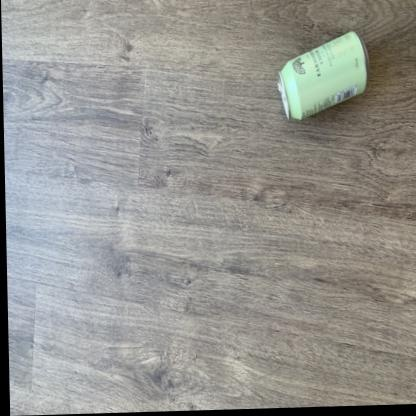trash: (278, 32, 366, 119)
